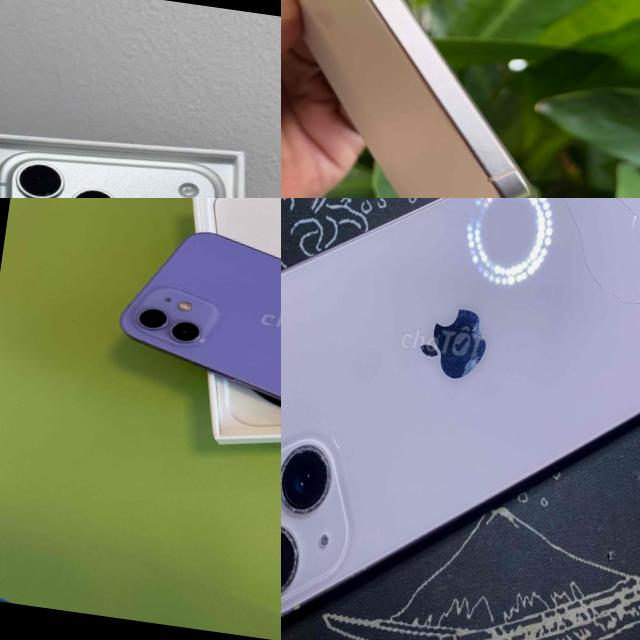gen_12_13: (281, 198, 640, 640), (100, 217, 281, 472)
gen_16: (297, 0, 533, 198)
gen_17: (0, 131, 281, 198)
